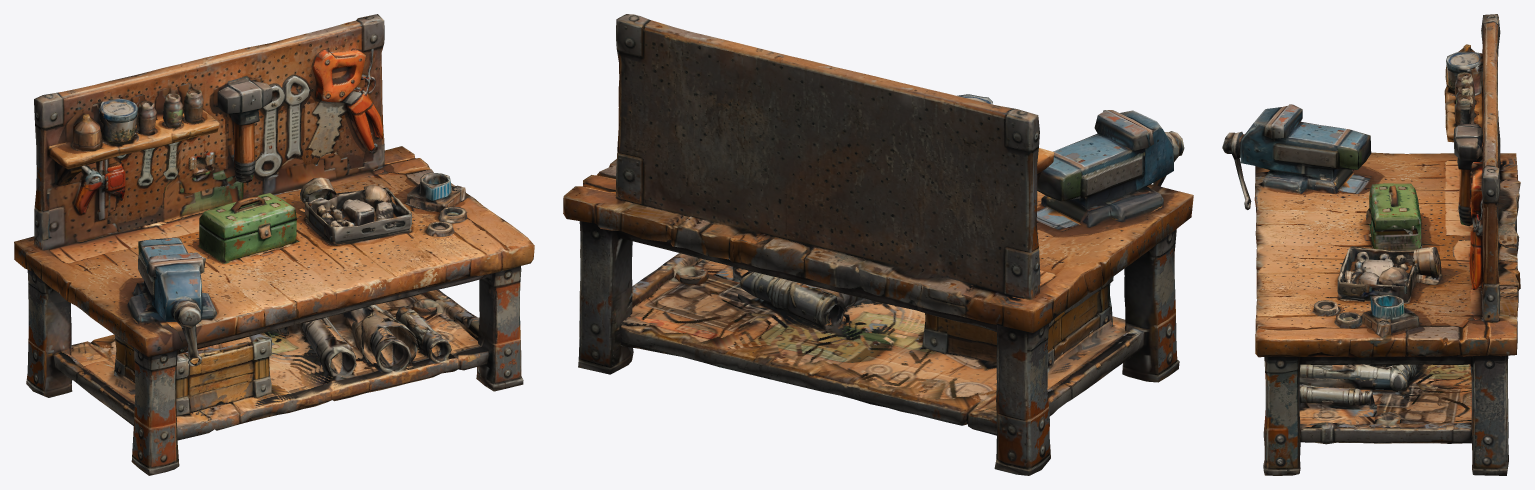
File: Settle_Station_Workbench.fbx
3 views of the same model, side by side, from view 1: azimuth 30°, elevation 25°; view 2: azimuth 150°, elevation 25°; view 3: azimuth 270°, elevation 25° (orthographic). The views are drawn at different scales.
Visible parts, largest first — view 1: texture_mapping; view 2: texture_mapping; view 3: texture_mapping.
Part boxes in pixels (x1=…): texture_mapping: x1=14, y1=14, x2=534, y2=475; texture_mapping: x1=563, y1=14, x2=1193, y2=475; texture_mapping: x1=1222, y1=14, x2=1520, y2=475.
Size of the model in its own units: 0.9987 by 0.669 by 0.7169.
1 material, 1 textured.
